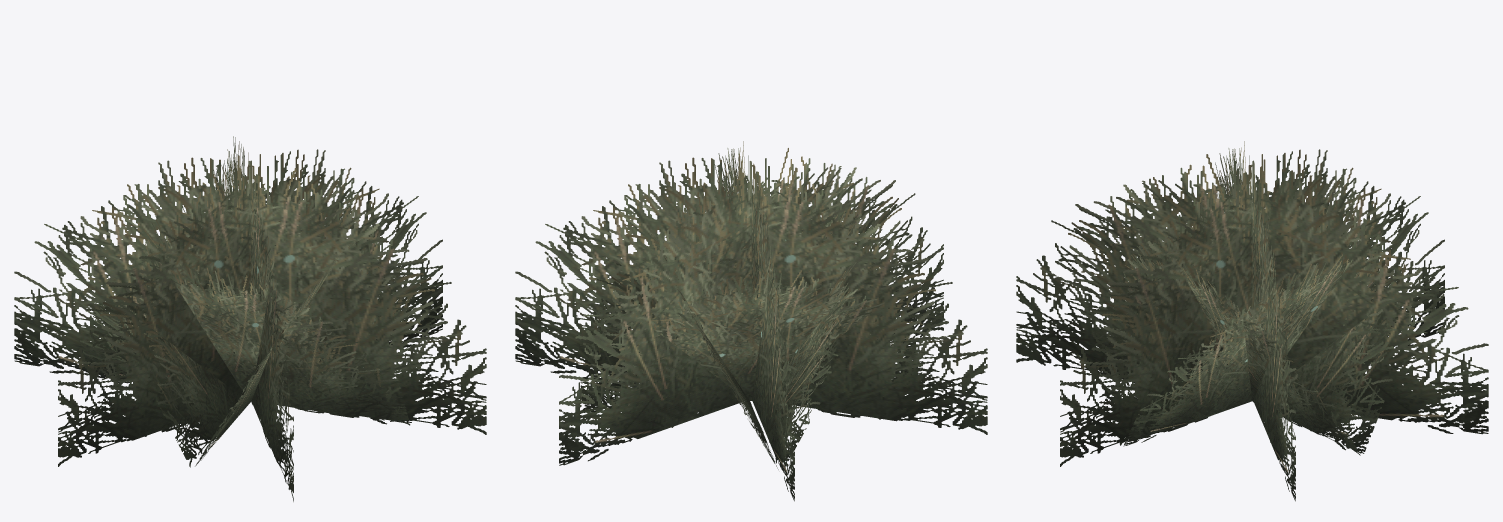
File: grass_short.obj
3 renders of one model, left to right at view 1: azimuth 30°, elevation 25°; view 2: azimuth 150°, elevation 25°; view 3: azimuth 270°, elevation 25°, orthographic.
Parts seen in each view (by area): view 1: Third_Crossed_Card, First_Crossed_Card, Right_Leaning_Card, Second_Crossed_Card, Front_Leaning_Card, Back_Leaning_Card, Left_Leaning_Card; view 2: First_Crossed_Card, Second_Crossed_Card, Front_Leaning_Card, Third_Crossed_Card, Right_Leaning_Card, Back_Leaning_Card, Left_Leaning_Card; view 3: Second_Crossed_Card, Third_Crossed_Card, Left_Leaning_Card, First_Crossed_Card, Front_Leaning_Card, Back_Leaning_Card, Right_Leaning_Card.
Boxes of the visible parts, box(x1,y1,x2,y2) form: Third_Crossed_Card: box(14, 155, 486, 434); First_Crossed_Card: box(58, 149, 442, 466); Right_Leaning_Card: box(76, 267, 410, 425); Second_Crossed_Card: box(213, 136, 293, 501); Front_Leaning_Card: box(139, 205, 242, 467); Back_Leaning_Card: box(195, 243, 355, 466); Left_Leaning_Card: box(99, 185, 423, 424); First_Crossed_Card: box(515, 155, 987, 434); Second_Crossed_Card: box(559, 148, 943, 465); Front_Leaning_Card: box(584, 270, 924, 412); Third_Crossed_Card: box(714, 141, 794, 501); Right_Leaning_Card: box(763, 211, 856, 467); Back_Leaning_Card: box(576, 192, 918, 410); Left_Leaning_Card: box(648, 228, 778, 469); Second_Crossed_Card: box(1016, 154, 1488, 434); Third_Crossed_Card: box(1060, 149, 1444, 466); Left_Leaning_Card: box(1123, 254, 1403, 446); First_Crossed_Card: box(1215, 141, 1295, 501); Front_Leaning_Card: box(1288, 197, 1395, 453); Back_Leaning_Card: box(1122, 246, 1360, 455); Right_Leaning_Card: box(1100, 192, 1216, 445).
Size of the model in its own units: 39.39 by 25 by 37.59.
Materials: 1 (1 with a texture image).
